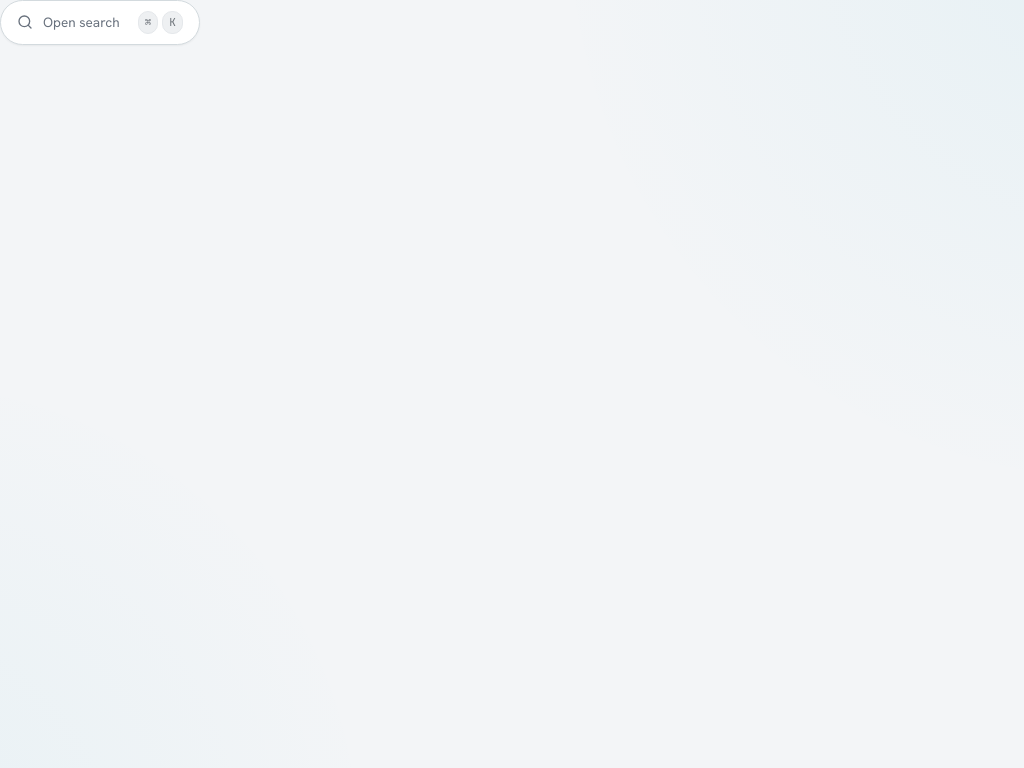
Test case: CommandPalette live /search (#231) › activates a hit and closes the palette
Click the button "Open search ⌘ K". click: (100, 22)
box: [0,0,200,44]
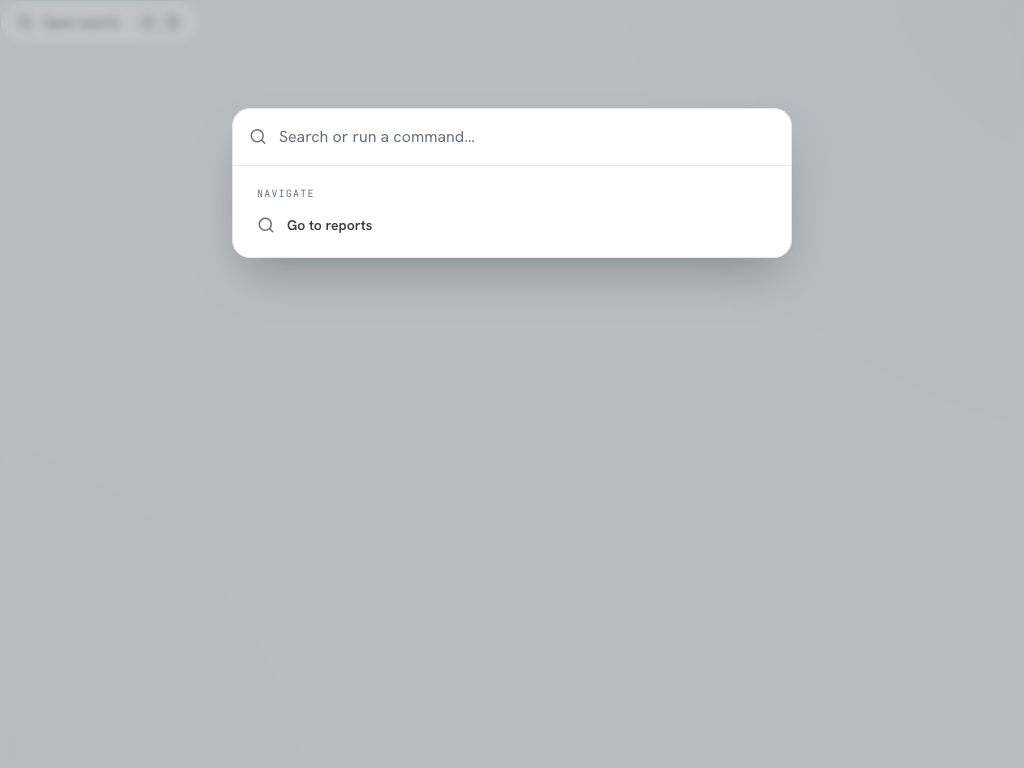
Type "widget" into the dropdown. click: (527, 136)
box: [279,124,775,148]
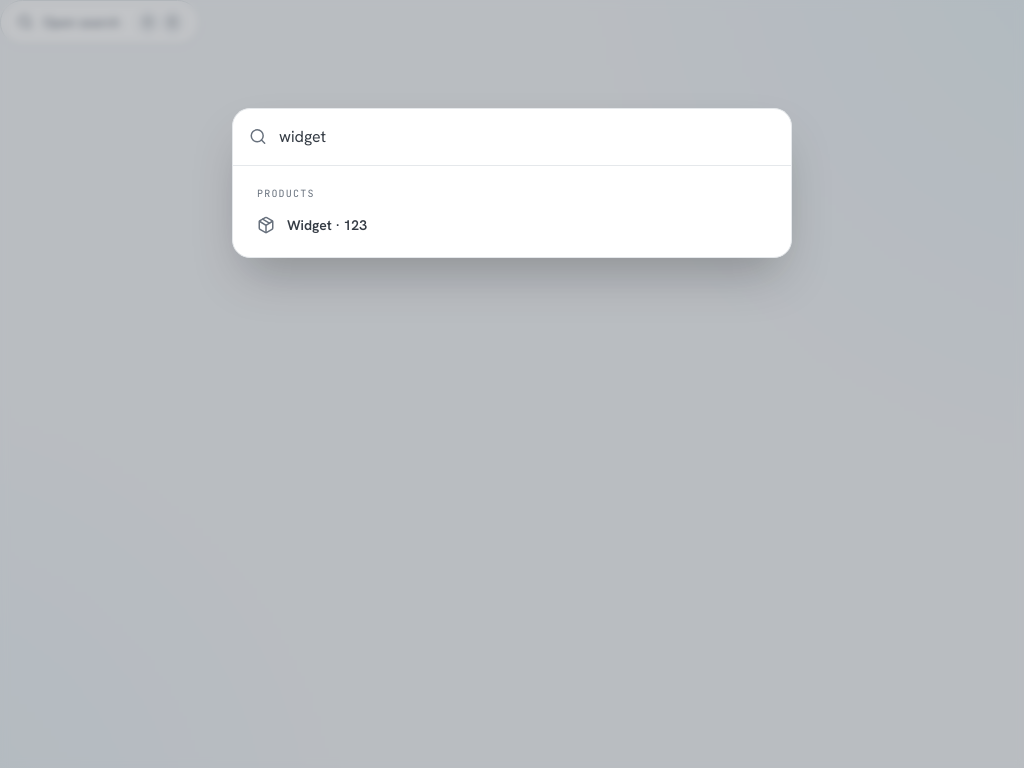
Click the option "Widget · 123". click: (327, 225)
box: [245,204,779,244]
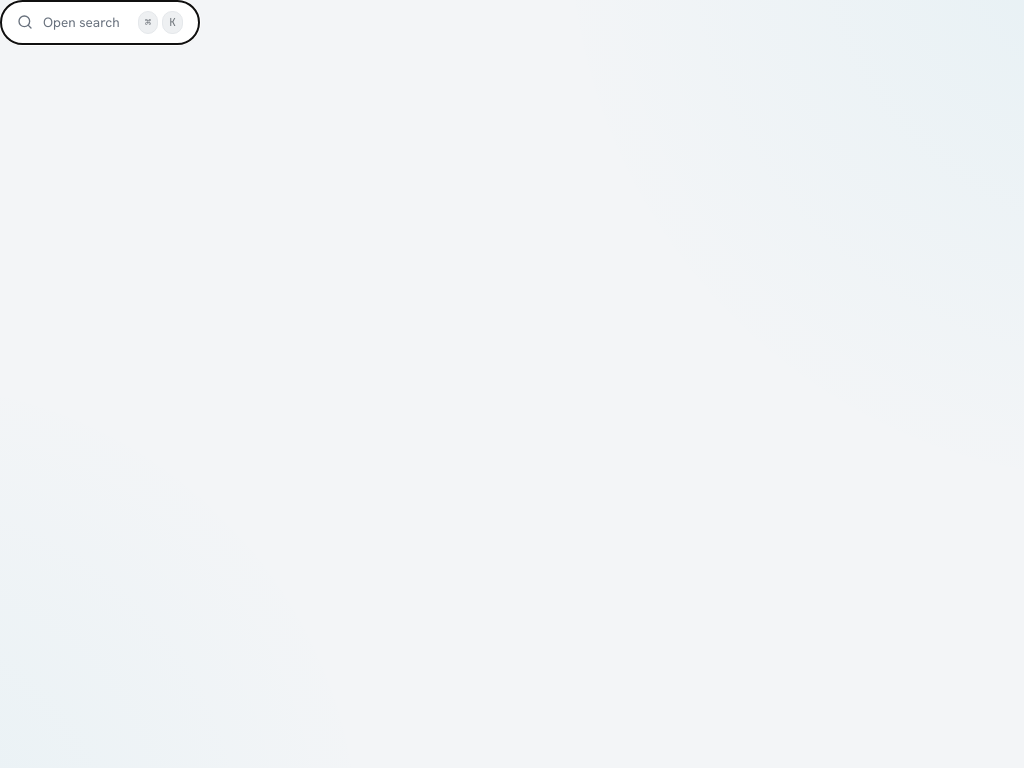
Result: the dialog is gone
